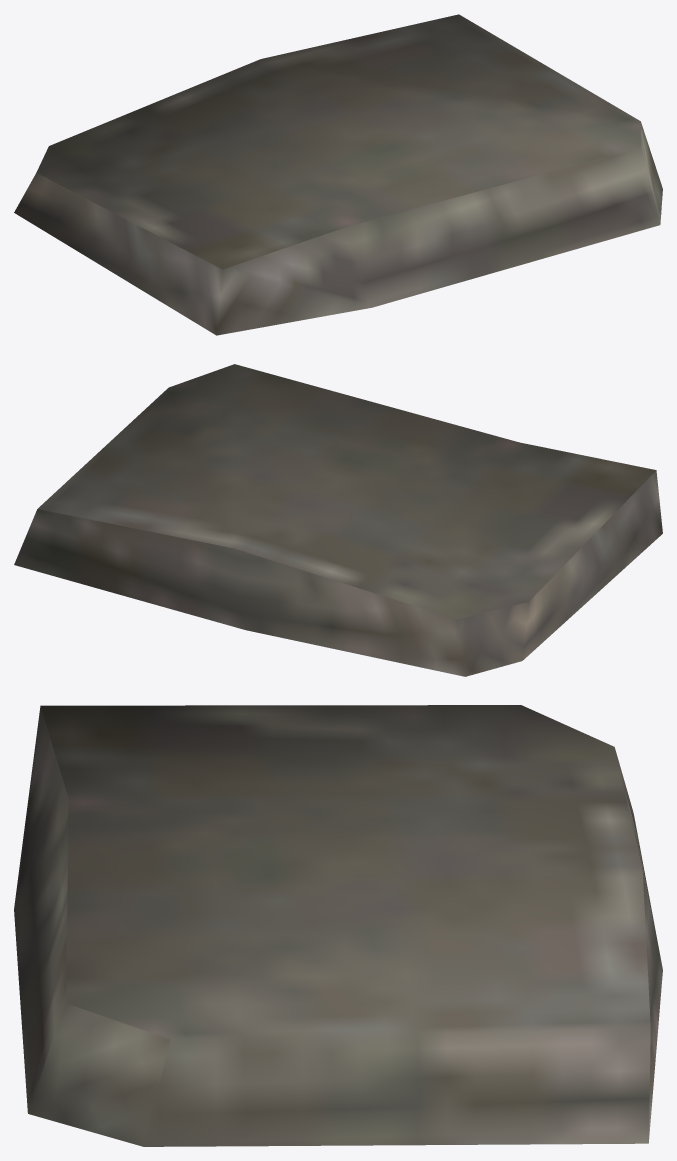
Rendered from SC_SLstone14.FBX.
3 views of the same model, one above another, from view 1: azimuth 30°, elevation 25°; view 2: azimuth 150°, elevation 25°; view 3: azimuth 270°, elevation 25° (orthographic). The views are drawn at different scales.
Visible parts, largest first — view 1: SC_SLstone14; view 2: SC_SLstone14; view 3: SC_SLstone14.
Part boxes in pixels (bbox=[...]): SC_SLstone14: bbox=[14, 14, 662, 335]; SC_SLstone14: bbox=[14, 364, 662, 676]; SC_SLstone14: bbox=[14, 705, 662, 1146].
Bounding box in the file's own units: 0.5379 × 0.0829 × 0.3923.
